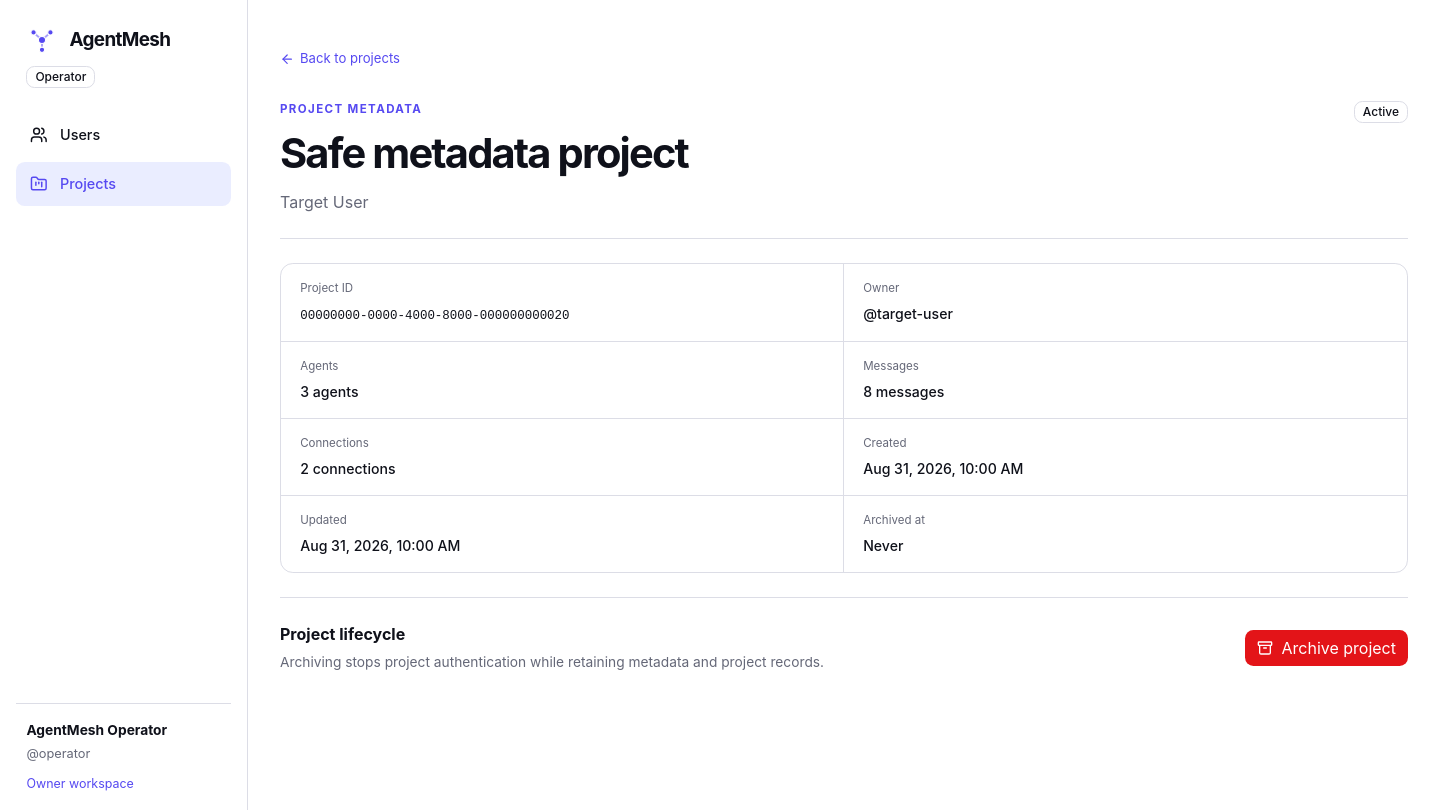
Test: AgentMesh operator UI › shows project metadata and archives only after confirmation
Check: the heading "Safe metadata project" is shown, box [280,122,688,184]
Check: the text "8 messages" is shown, box [863,383,944,400]
Click the button "Archive project".
click(1327, 648)  # box [1246,630,1408,666]
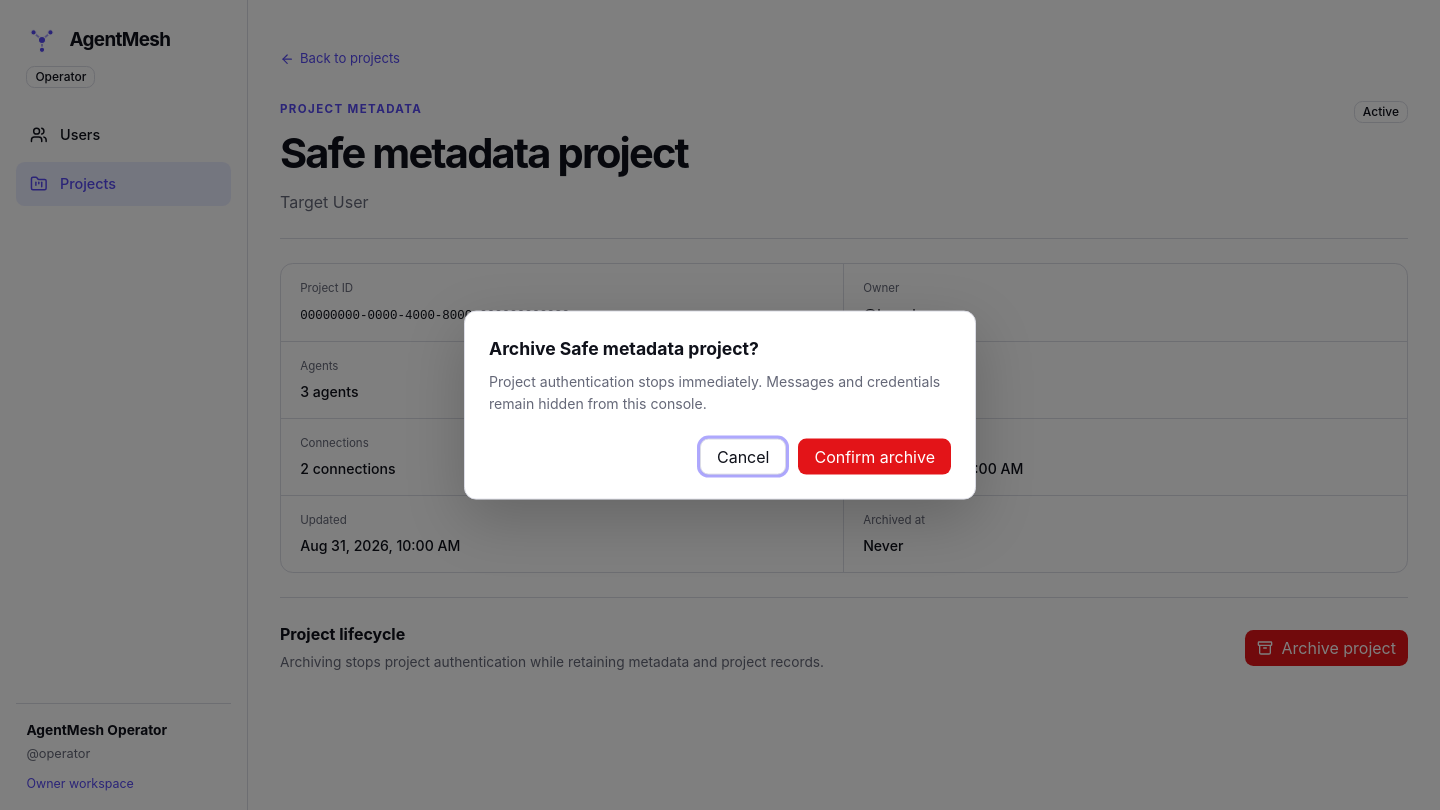
Click the button "Confirm archive".
click(875, 456)  # box [798,438,951,474]
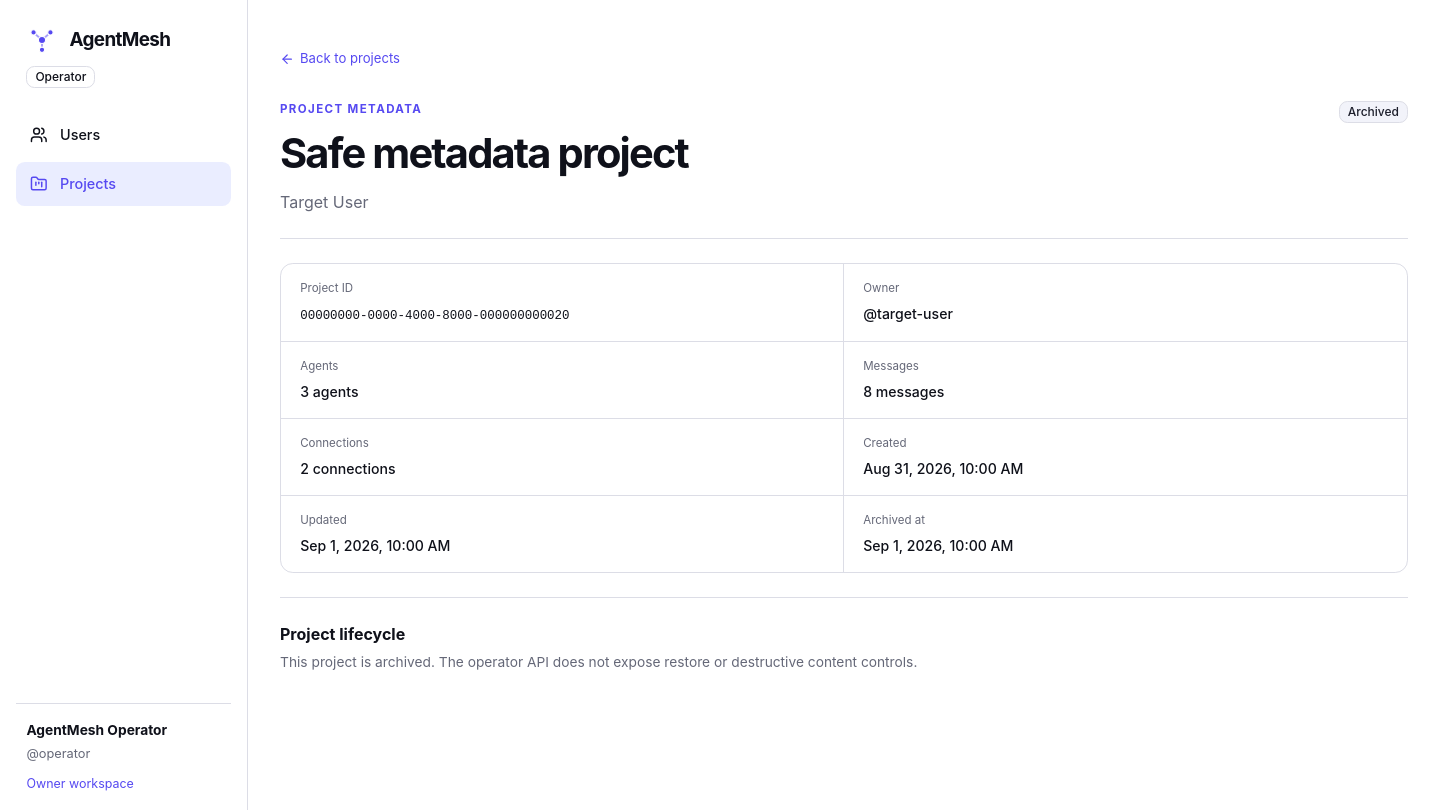
Check: the text "Archived" is shown, box [1339,101,1408,123]
Check: the button "Archive project" is gone
